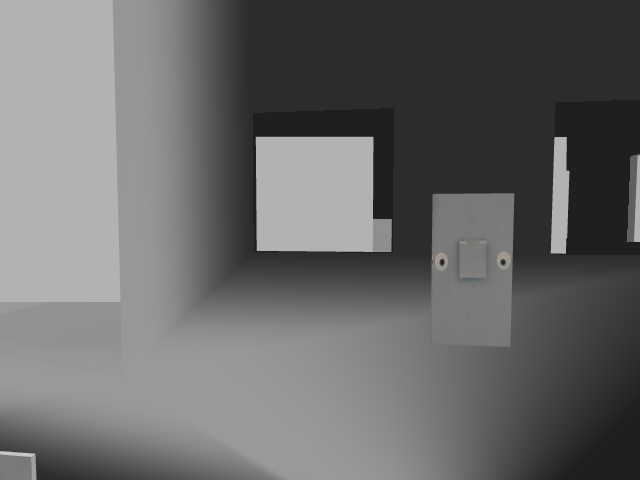facade: (432, 237, 512, 281)
